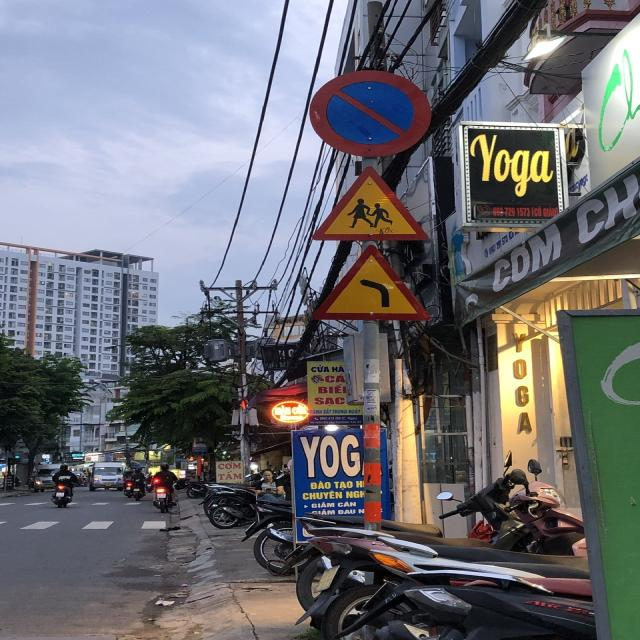Bien bao cam do xe: (297, 58, 450, 158)
Bien bao cho ngoat nguy hiem: (299, 242, 429, 328)
Bien bao tre em: (301, 161, 438, 245)
